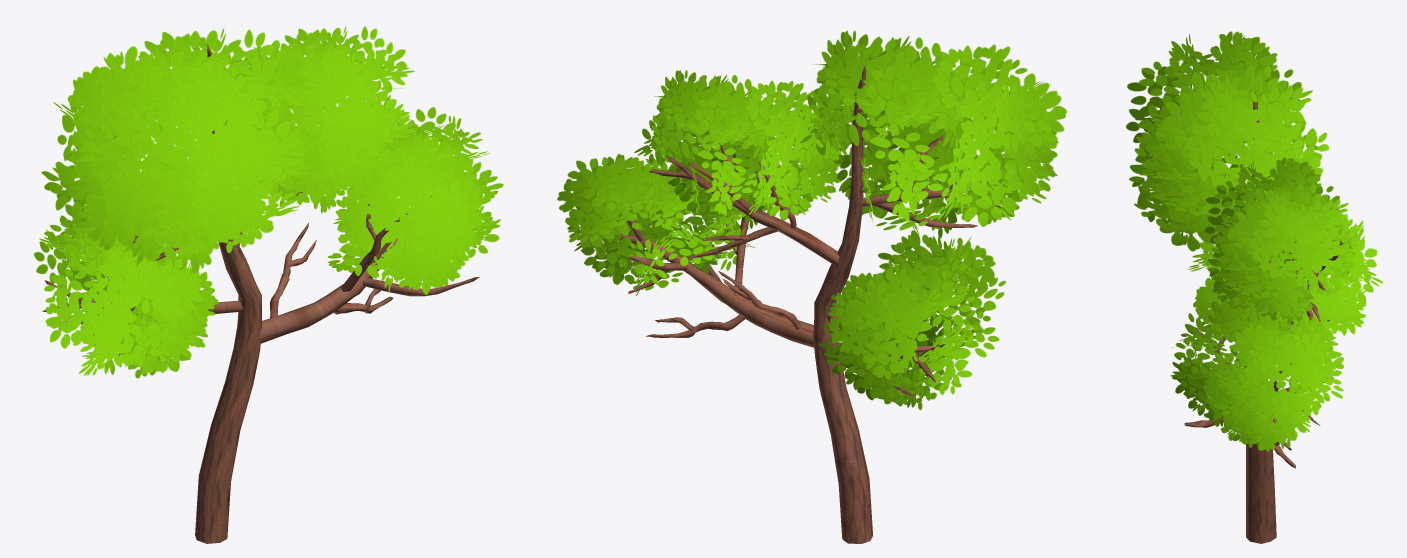
The model's file is normal_tree_3.glb.
The picture shows the model from 3 angles, left to right: view 1: azimuth 30°, elevation 25°; view 2: azimuth 150°, elevation 25°; view 3: azimuth 270°, elevation 25°; orthographic projection. The views are drawn at different scales.
Parts seen in each view (by area): view 1: NormalTree_3; view 2: NormalTree_3; view 3: NormalTree_3.
Boxes of the visible parts, x1,y1,x2,y2 form: NormalTree_3: (34, 26, 503, 543); NormalTree_3: (557, 30, 1066, 543); NormalTree_3: (1126, 31, 1383, 543).
Size of the model in its own units: 5.04 by 5.28 by 2.89.
2 materials, 2 textured.
